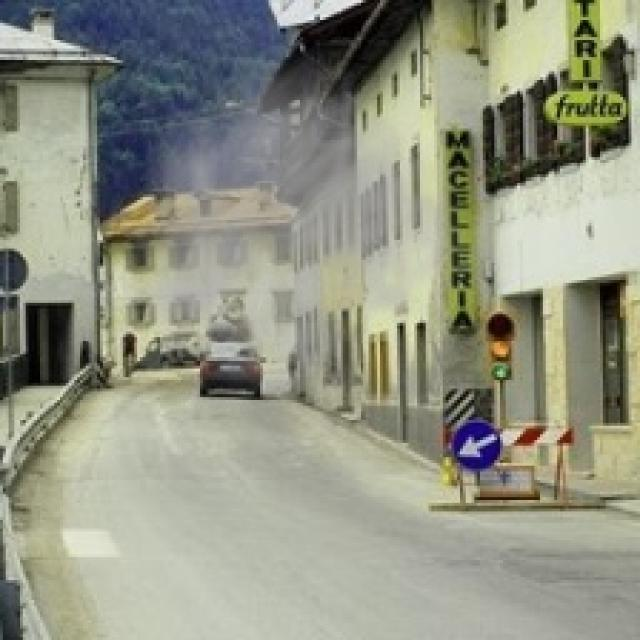Smoke: (122, 39, 492, 412)
